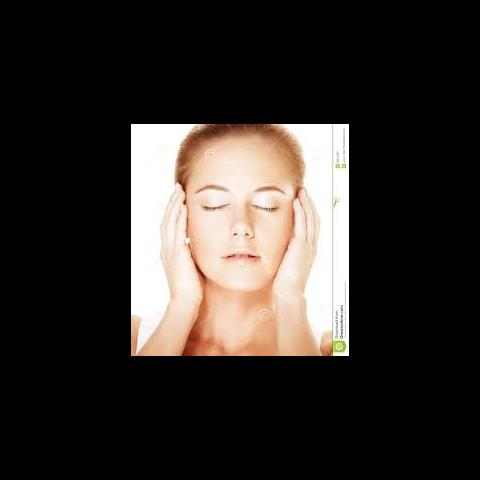closed: (188, 180, 288, 216)
